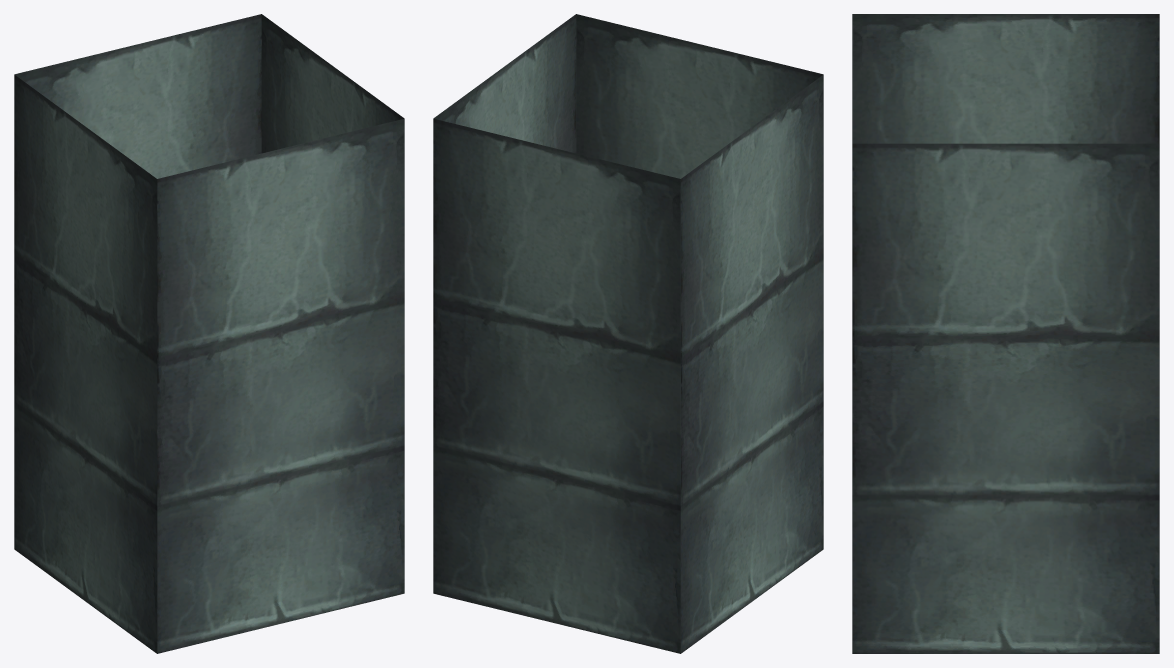
Rendered from crypt_bridge_pillar_01.fbx.
The picture shows the model from 3 angles, left to right: view 1: azimuth 30°, elevation 25°; view 2: azimuth 150°, elevation 25°; view 3: azimuth 270°, elevation 25°; orthographic projection. The views are drawn at different scales.
Visible parts, largest first — view 1: crypt_tileset/crypt_wall_column; view 2: crypt_tileset/crypt_wall_column; view 3: crypt_tileset/crypt_wall_column.
Boxes of the visible parts, left/top/right/bottom form: crypt_tileset/crypt_wall_column: left=14, top=14, right=404, bottom=653; crypt_tileset/crypt_wall_column: left=433, top=14, right=823, bottom=653; crypt_tileset/crypt_wall_column: left=852, top=14, right=1159, bottom=653.
Bounding box in the file's own units: 3 × 5.5 × 3.
